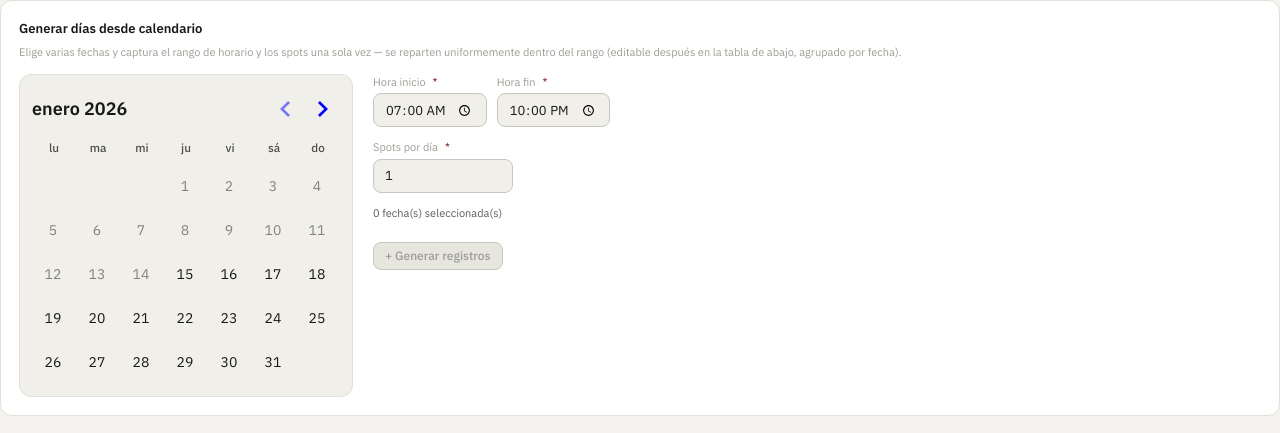
CalendarioPeriodoTransmision — solo navega dentro del rango de campaña (ADR-132) › no deja navegar antes del mes de inicio ni después del mes de fin de la campaña
Click the button named "Ir al mes siguiente": click(322, 109) left=304, top=91, right=340, bottom=127
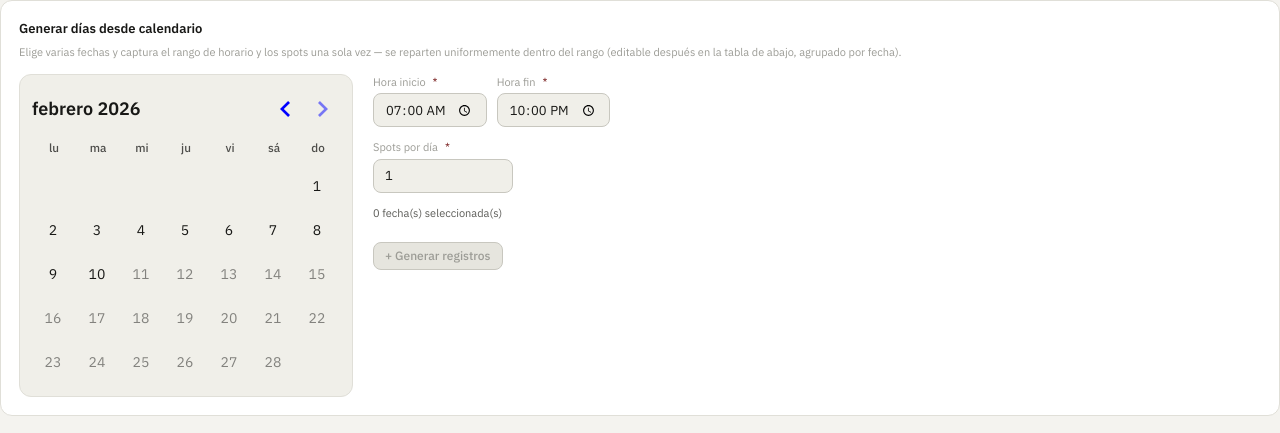
Expected: the text "febrero 2026" is shown, left=32, top=97, right=141, bottom=120
